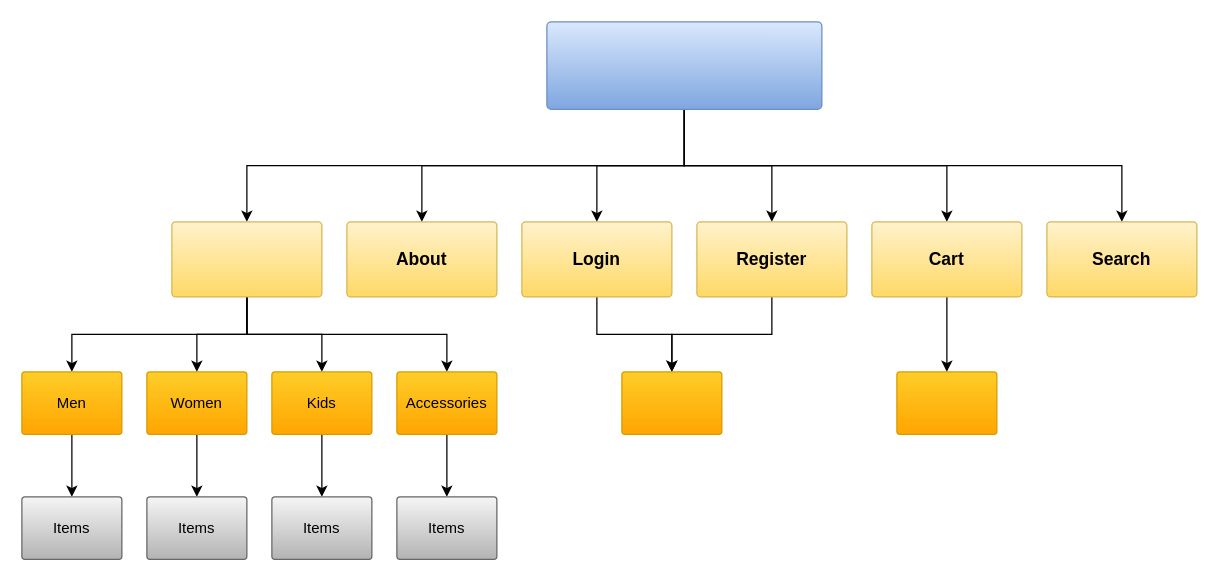
This 1219x581 diagram has some shape labels left out. Each missing label, with the centre of its shape:
"Checkout" belongs at [946,402].
"Home" belongs at [684,65].
"Profile" belongs at [671,402].
"Shop" belongs at [246,259].
